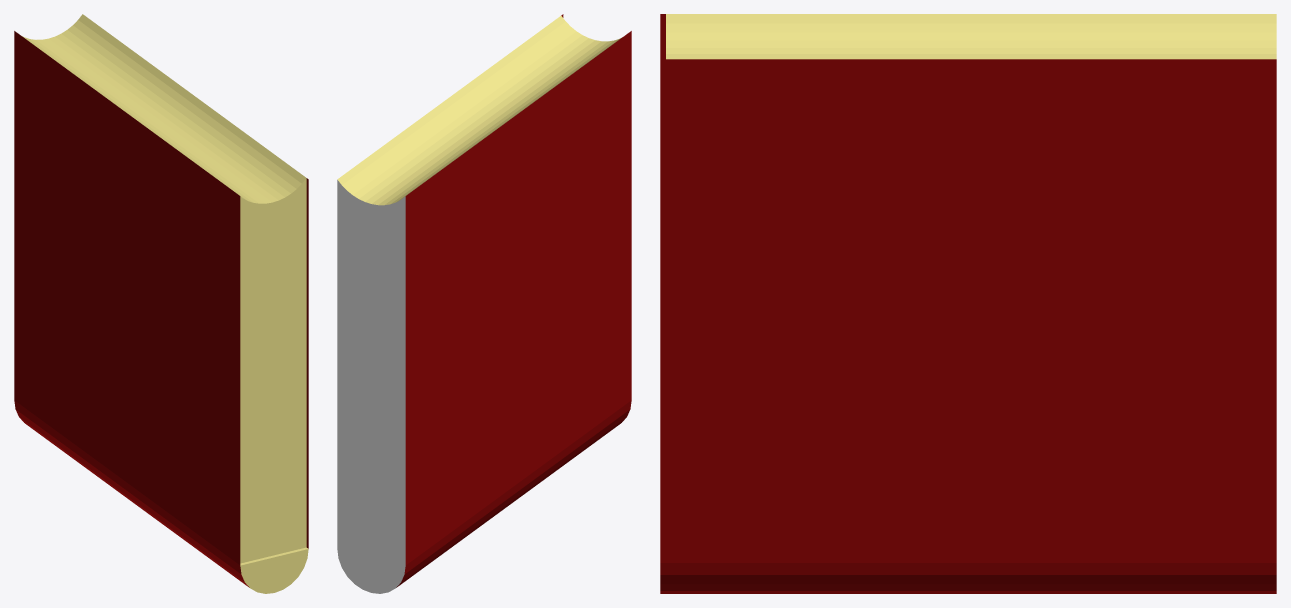
3 views of the same model, side by side, from view 1: azimuth 30°, elevation 25°; view 2: azimuth 150°, elevation 25°; view 3: azimuth 270°, elevation 25° (orthographic). The views are drawn at different scales.
Visible parts, largest first — view 1: book; view 2: book; view 3: book.
Boxes of the visible parts, left/top/right/bottom form: book: left=14, top=14, right=308, bottom=593; book: left=337, top=14, right=631, bottom=593; book: left=660, top=14, right=1276, bottom=593.
Bounding box in the file's own units: 44.88 × 254 × 257.
